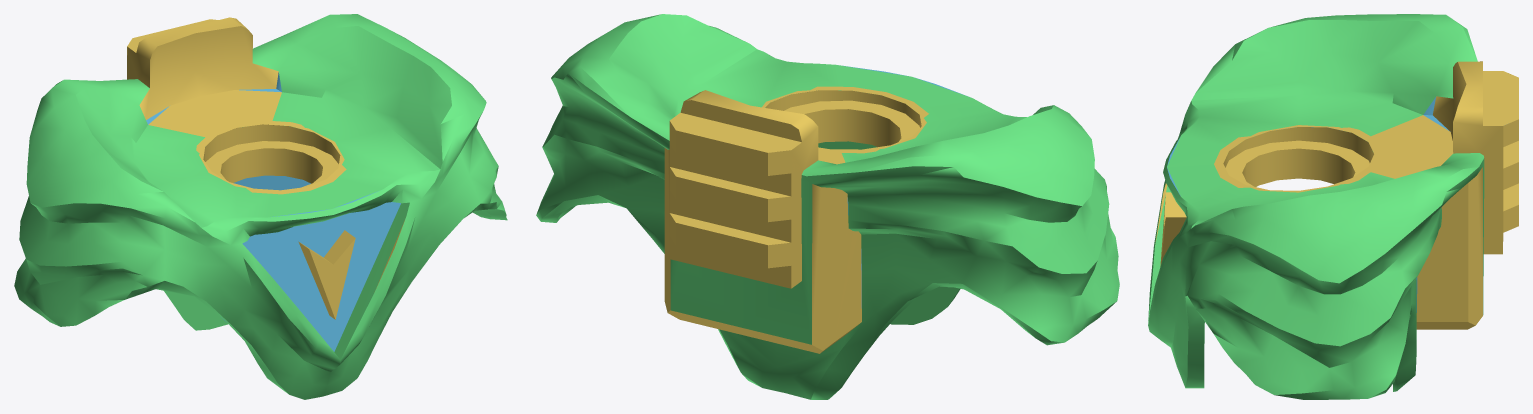
File: Ropa4.fbx
The picture shows the model from 3 angles, left to right: view 1: azimuth 30°, elevation 25°; view 2: azimuth 150°, elevation 25°; view 3: azimuth 270°, elevation 25°; orthographic projection. The views are drawn at different scales.
Parts seen in each view (by area): view 1: SOLID-WHITE_113-material.001, SOLID-WHITE_113-material.002, SOLID-WHITE_113-material.436; view 2: SOLID-WHITE_113-material.001, SOLID-WHITE_113-material.002; view 3: SOLID-WHITE_113-material.001, SOLID-WHITE_113-material.002, SOLID-WHITE_113-material.436.
Boxes of the visible parts, box(x1,y1,x2,y2) form: SOLID-WHITE_113-material.001: box(14, 14, 507, 399); SOLID-WHITE_113-material.002: box(127, 17, 404, 319); SOLID-WHITE_113-material.436: box(146, 72, 400, 351); SOLID-WHITE_113-material.001: box(536, 14, 1119, 399); SOLID-WHITE_113-material.002: box(664, 86, 928, 353); SOLID-WHITE_113-material.001: box(1148, 14, 1484, 399); SOLID-WHITE_113-material.002: box(1155, 61, 1518, 329); SOLID-WHITE_113-material.436: box(1167, 96, 1450, 312).
Size of the model in its own units: 321 by 184 by 207.
